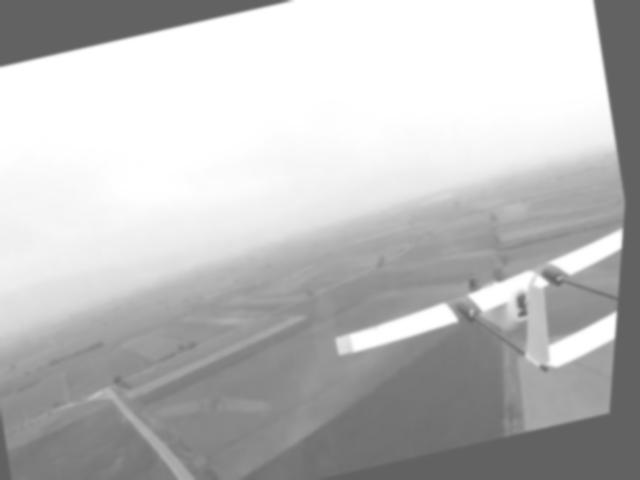hedef: (305, 193, 629, 427)
